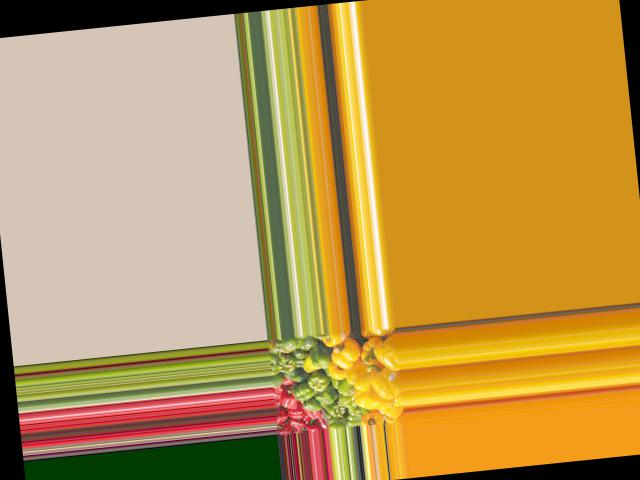bell_pepper: (267, 336, 292, 355)
